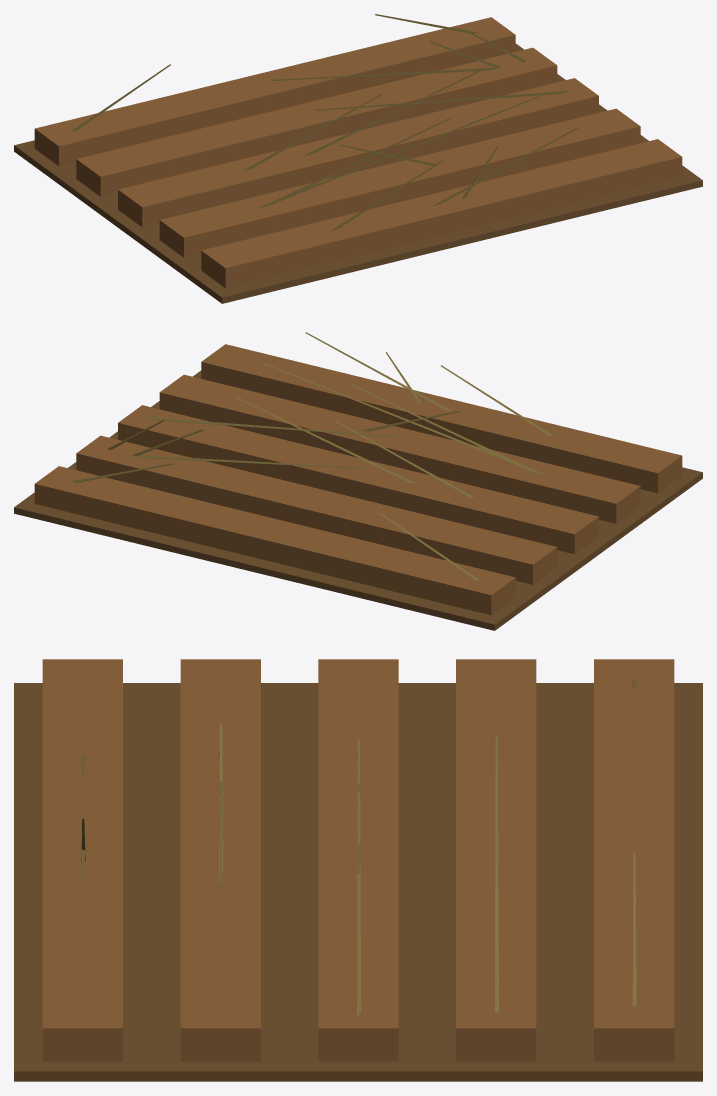
File: a2f_dry_plot.glb
3 views of the same model, one above another, from view 1: azimuth 30°, elevation 25°; view 2: azimuth 150°, elevation 25°; view 3: azimuth 270°, elevation 25° (orthographic). The views are drawn at different scales.
Parts seen in each view (by area): view 1: a2f_dry_plot; view 2: a2f_dry_plot; view 3: a2f_dry_plot.
Boxes of the visible parts, x1,y1,x2,y2 form: a2f_dry_plot: [14, 14, 702, 303]; a2f_dry_plot: [14, 332, 702, 630]; a2f_dry_plot: [14, 659, 702, 1081].
Bounding box in the file's own units: 4 × 0.5551 × 3.
